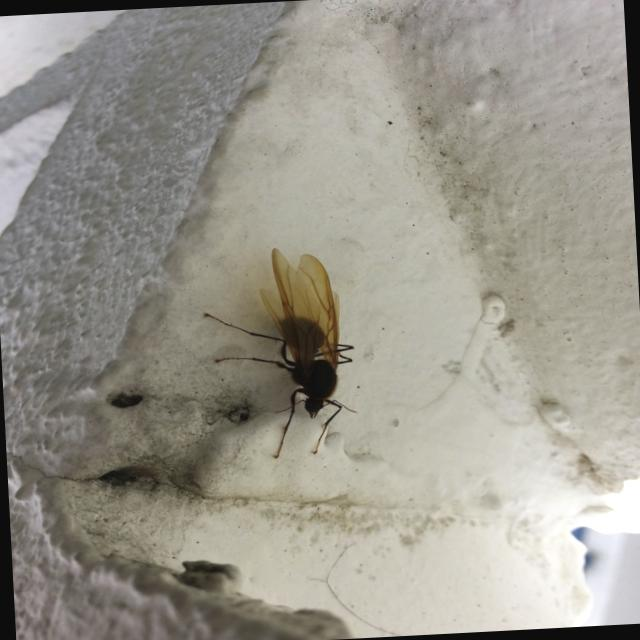Alive-Male-Alate: (200, 244, 360, 462)
